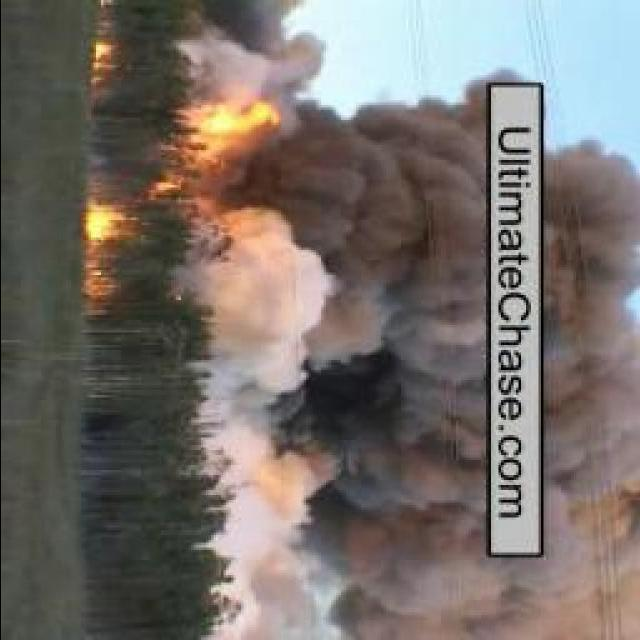Fire: (180, 96, 290, 164), (86, 206, 140, 246), (92, 42, 118, 80), (83, 272, 108, 302)
